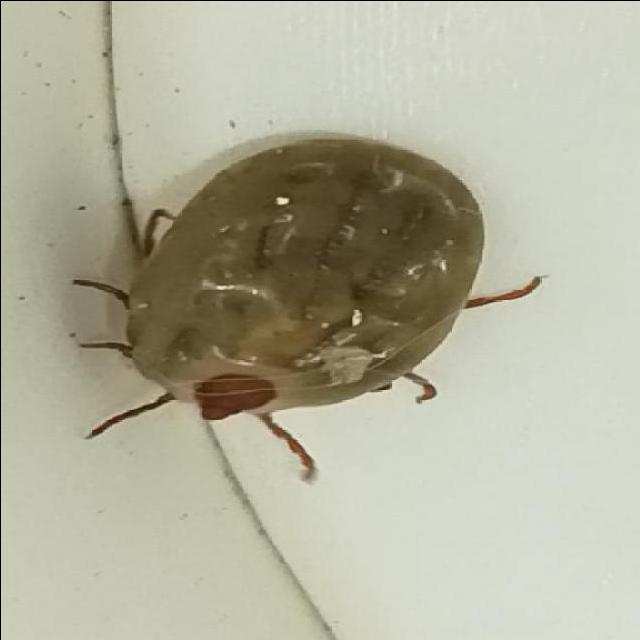Rhipicephalus Sanguineus-F-Fed: (72, 135, 539, 483)
